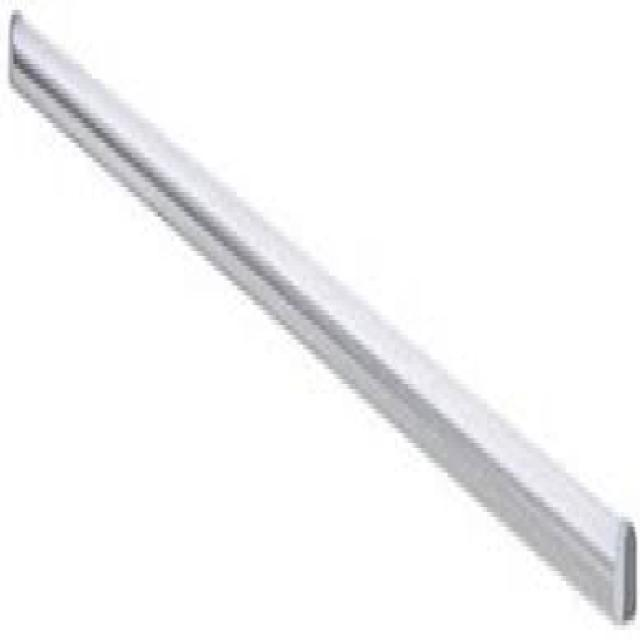tubelight_off: (8, 5, 638, 627)
